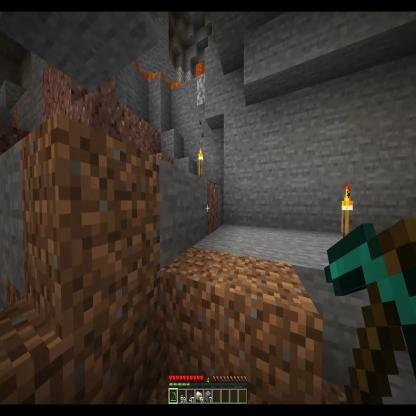iron ore: (175, 19, 187, 44)
